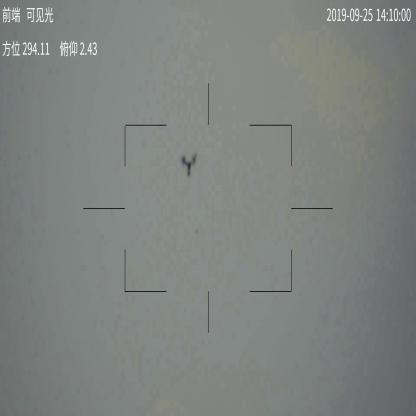uav: (180, 154, 198, 176)
